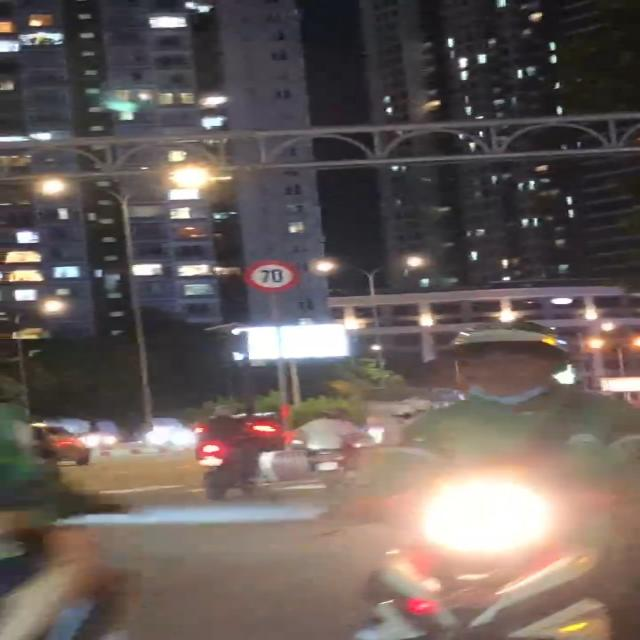Bien bao toc do toi da cho phep: (244, 258, 294, 295)
